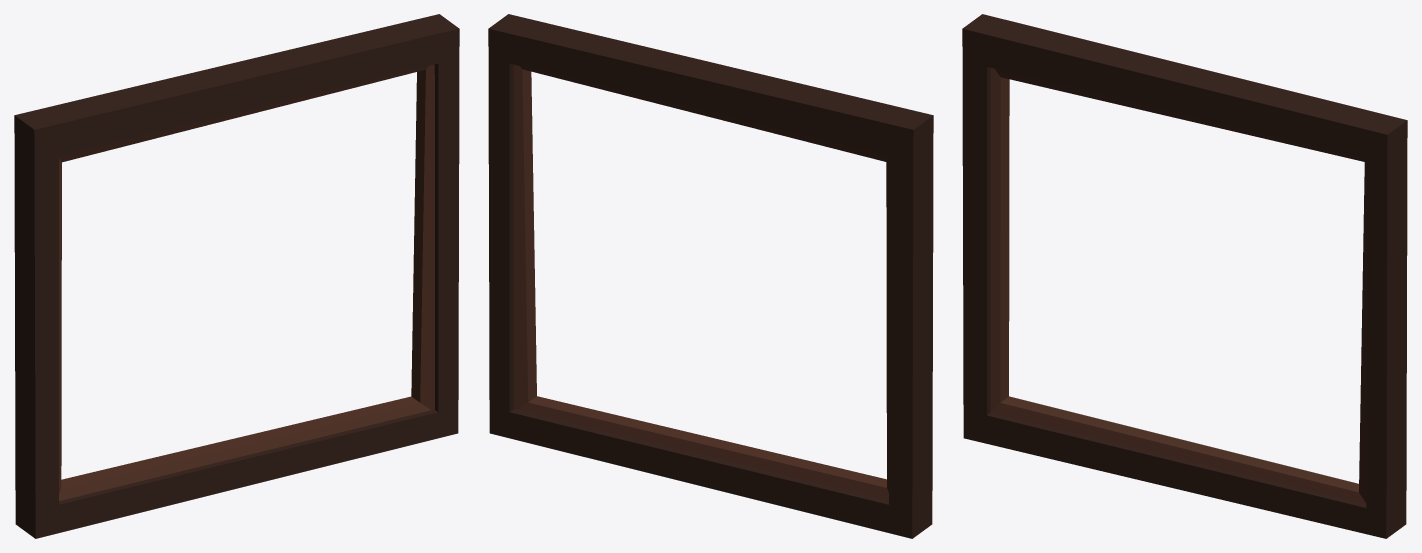
The model's file is Window 4x4 Frame.glb.
3 views of the same model, side by side, from view 1: azimuth 30°, elevation 25°; view 2: azimuth 150°, elevation 25°; view 3: azimuth 330°, elevation 25° (orthographic).
Visible parts, largest first — view 1: Window 4x4 Frame; view 2: Window 4x4 Frame; view 3: Window 4x4 Frame.
Part boxes in pixels (bbox=[...]): Window 4x4 Frame: bbox=[14, 14, 459, 538]; Window 4x4 Frame: bbox=[488, 14, 933, 538]; Window 4x4 Frame: bbox=[962, 14, 1407, 538].
Bounding box in the file's own units: 2.06 × 1.9 × 0.1684.
1 material, 1 textured.
